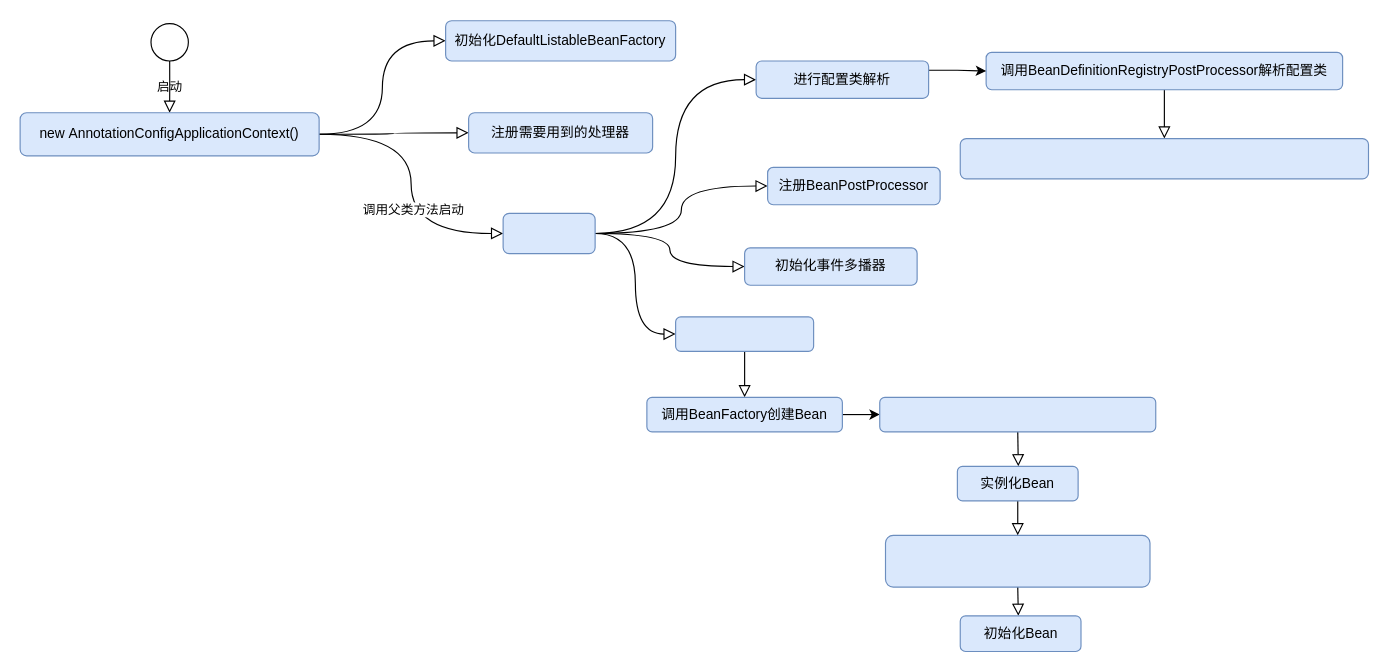
The diagram is 1389 pixels wide and 672 high, and some of its shapes have lost their labels. Each missing label, with the centre of its shape:
"refresh" goes at point (548, 233).
"实例化单例Bean" goes at point (744, 333).
"调用BeanFactoryPostProcessor在解析配置类之后进行后置处理" goes at point (1163, 158).
"调用BeanPostProcessor处理Autowired,Resourse等注解进行依赖注入" goes at point (1017, 560).
"调用BeanPostProcessor进行构造器推断" goes at point (1017, 414).
